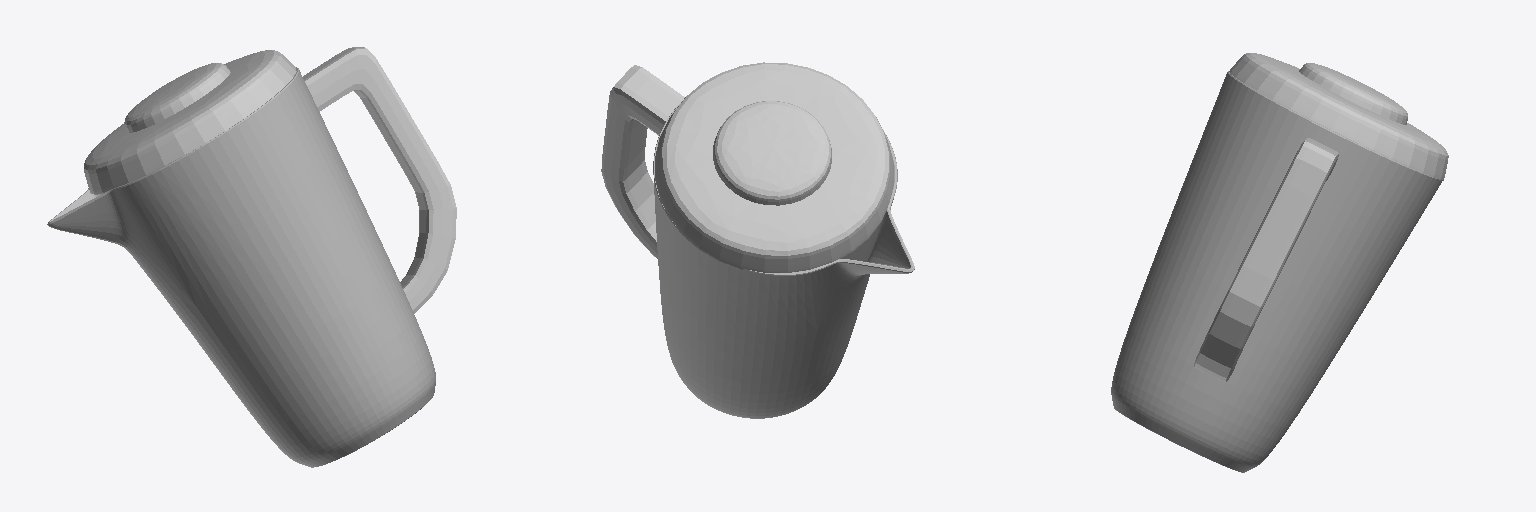
3 renders of one model, left to right at view 1: azimuth 30°, elevation 25°; view 2: azimuth 150°, elevation 25°; view 3: azimuth 270°, elevation 25°, orthographic.
Parts seen in each view (by area): view 1: dynamic; view 2: dynamic; view 3: dynamic.
Part boxes in pixels (left/top/right/bottom): dynamic: left=47, top=47, right=456, bottom=467; dynamic: left=601, top=62, right=914, bottom=418; dynamic: left=1111, top=53, right=1448, bottom=472.
Bounding box in the file's own units: 2.61 × 2.66 × 2.15.
Materials: 2 (1 with a texture image).